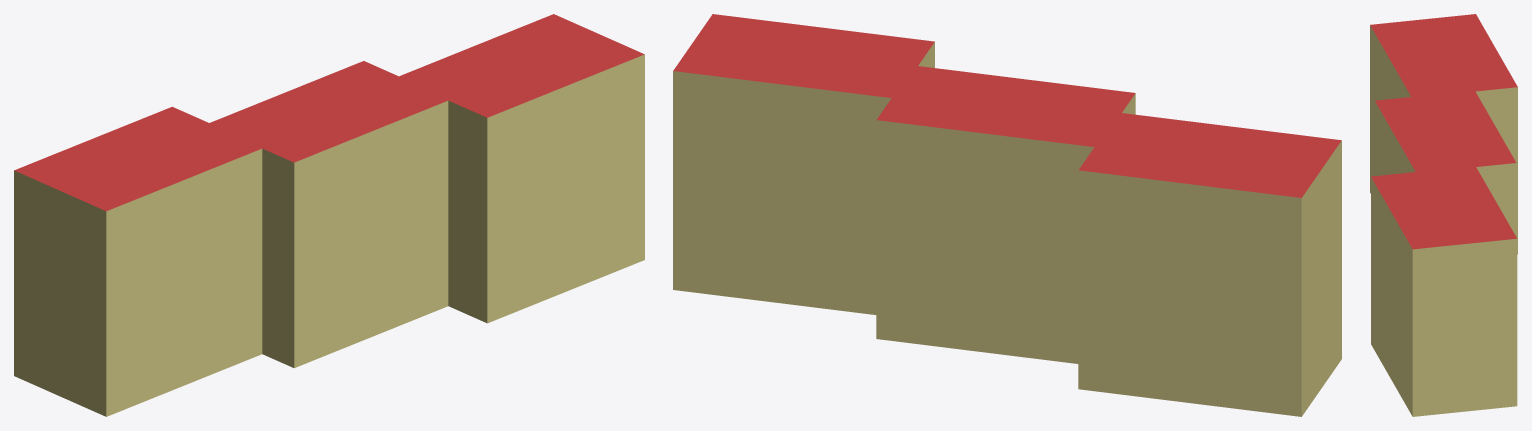
3 renders of one model, left to right at view 1: azimuth 30°, elevation 25°; view 2: azimuth 150°, elevation 25°; view 3: azimuth 270°, elevation 25°, orthographic. The views are drawn at different scales.
Parts seen in each view (by area): view 1: group_4, group_3; view 2: group_4, group_3; view 3: group_4, group_3.
Boxes of the visible parts, x1,y1,x2,y2 form: group_4: (14, 54, 644, 416); group_3: (14, 14, 644, 211); group_4: (673, 42, 1341, 416); group_3: (673, 14, 1341, 197); group_4: (1370, 25, 1517, 416); group_3: (1370, 14, 1517, 249).
Bounding box in the file's own units: 79.34 × 21.07 × 26.33.
